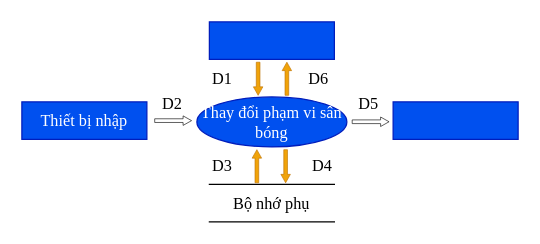
The diagram is 540 pixels wide and 244 high, and some of its shapes have lost their labels. The shapes that lost their labels are listed below. From the top down, each one's box as (x1, y1, x2, y2) in pixels, then its label:
(208, 21, 334, 59): Người dùng
(392, 101, 518, 139): Thiết bị xuất
